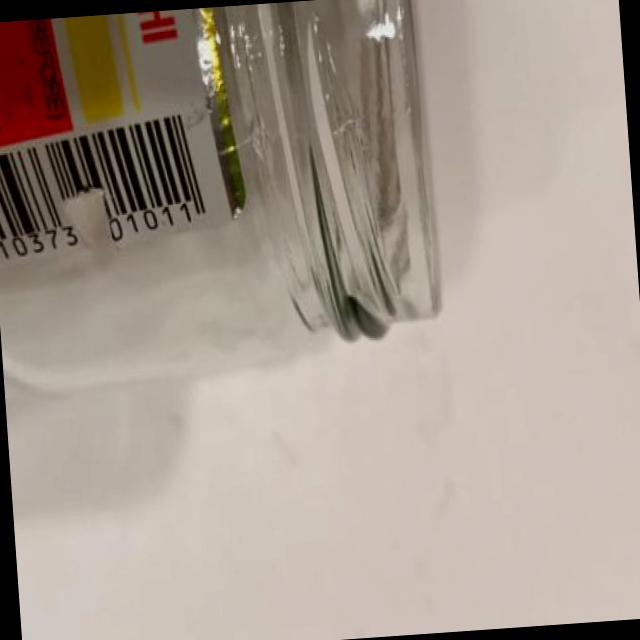chai_thuy_tinh: (0, 0, 444, 399)
